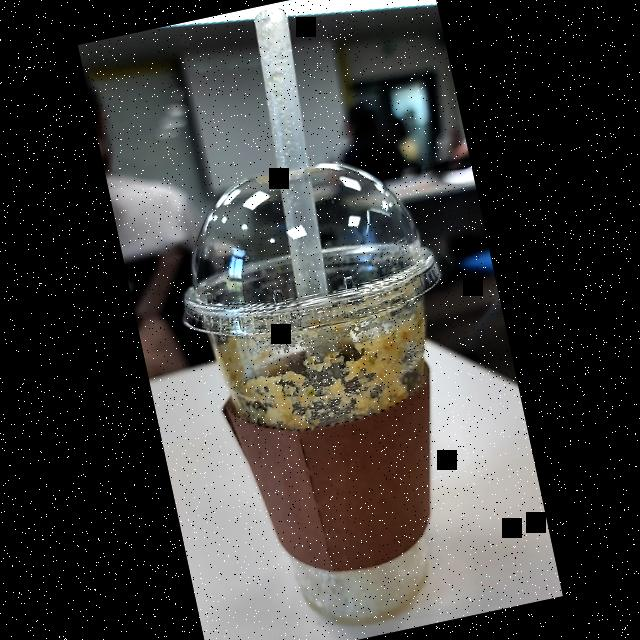plastic_cup: (157, 139, 517, 640)
plastic_cup_lid: (158, 138, 450, 352)
straw: (227, 0, 370, 398)
